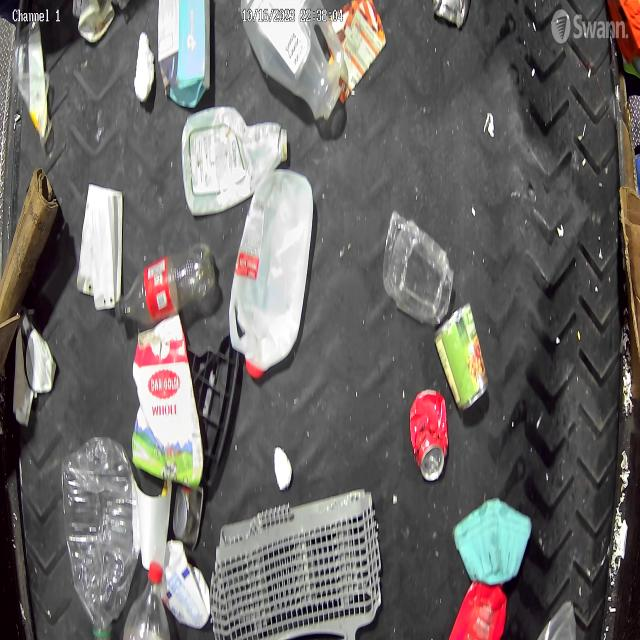can: (434, 304, 489, 412), (410, 387, 450, 482), (173, 484, 207, 551)
milk_jug: (228, 167, 314, 380)
non_white_jug: (239, 0, 344, 121), (182, 105, 288, 216), (158, 1, 211, 110)
plastic_bottle: (64, 444, 138, 635), (115, 242, 216, 326), (121, 568, 180, 640)
